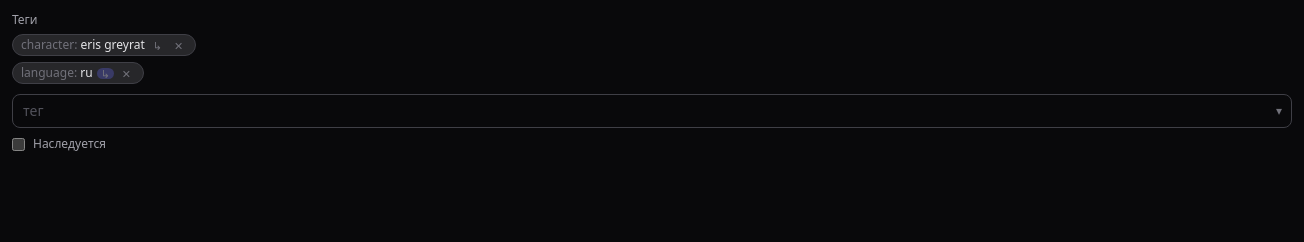
it: TagsSection: добавление › уже висящий тег не предлагается повторно (но «Создать тег …» остаётся)
Type "eris" into the dropdown named "Добавить тег" at {"x": 652, "y": 111}, box 12,94 -> 1292,128
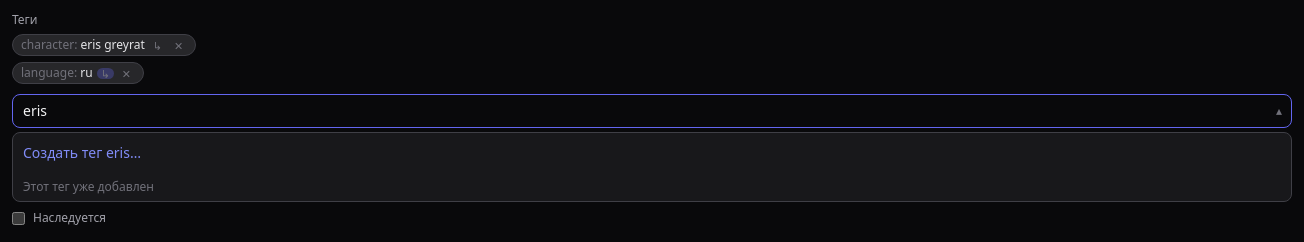
Now the text "Этот тег уже добавлен" is shown, box 23,178 -> 154,195
Now the option "Создать тег eris…" is shown, box 23,143 -> 141,162
